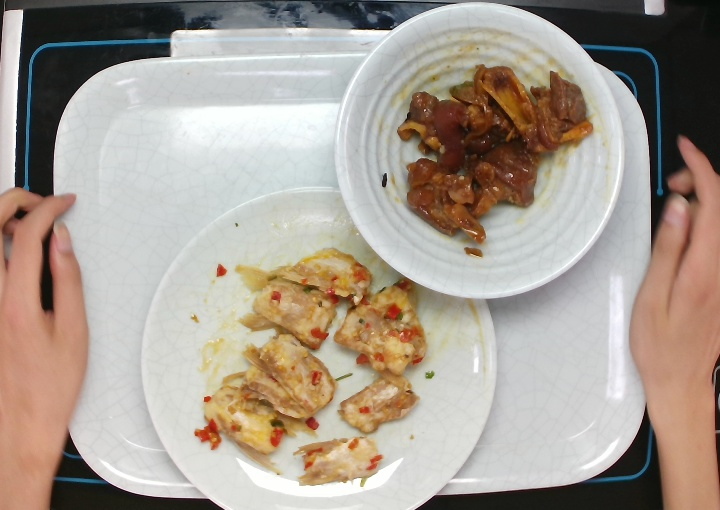JYsf-Da_Yuan_Pan: (137, 183, 500, 510)
JYsf-Xiao_Tang_Wan: (331, 2, 628, 302)
